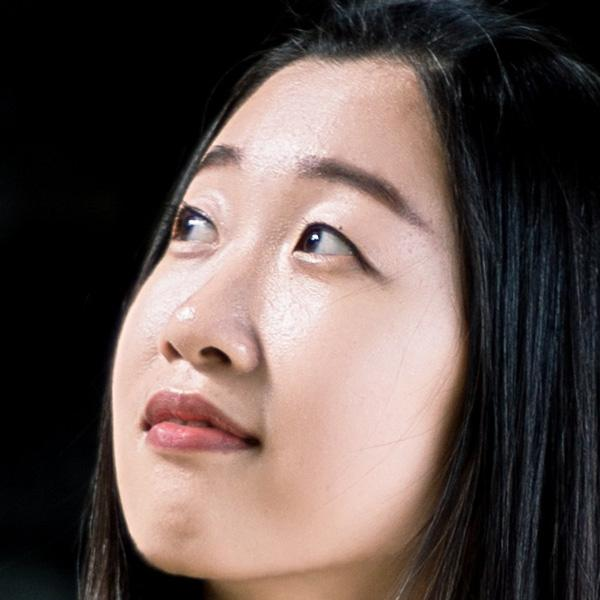Eyes: (283, 199, 375, 289), (164, 188, 225, 256)
